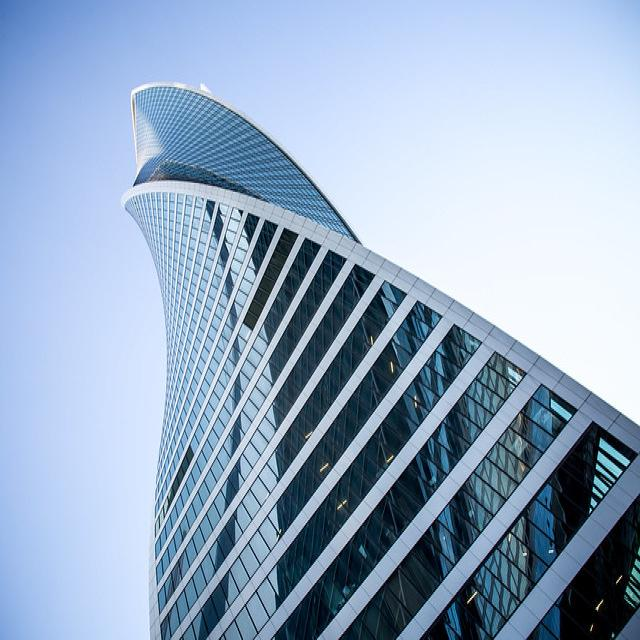building: (119, 67, 638, 639)
